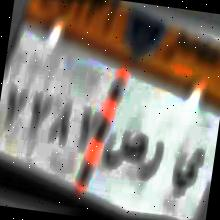7: (24, 87, 52, 149), (2, 81, 30, 134), (76, 100, 102, 156)
8: (48, 100, 74, 157)
raa: (140, 134, 165, 184)
saad: (98, 124, 148, 179)
yaa: (170, 140, 206, 207)
